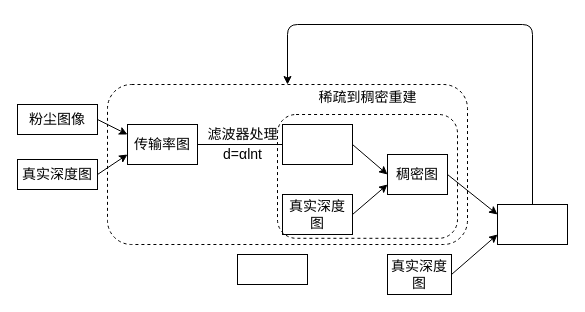
Image size: 585x312. Some labels were removed from this diagram. Each missing label, with the box of its shape:
判别器: (496, 204, 568, 244)
生成器: (236, 254, 308, 284)
稀疏深度图: (282, 124, 352, 164)
